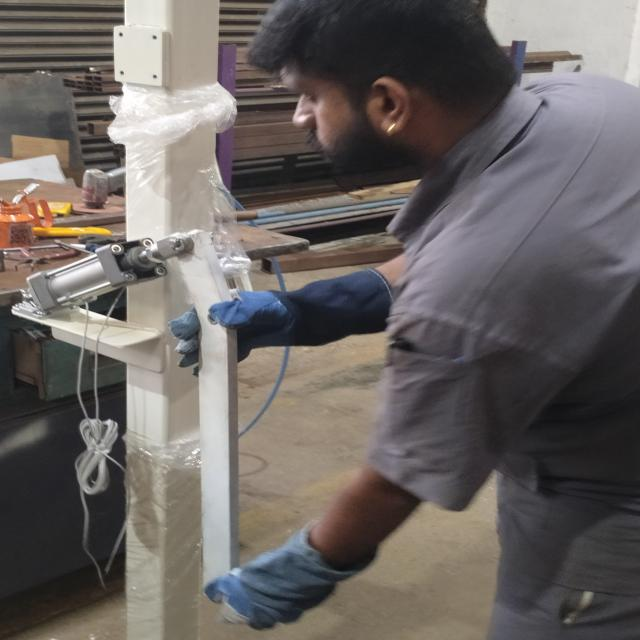Gloves-Detection: (147, 273, 389, 374), (188, 525, 382, 627)
